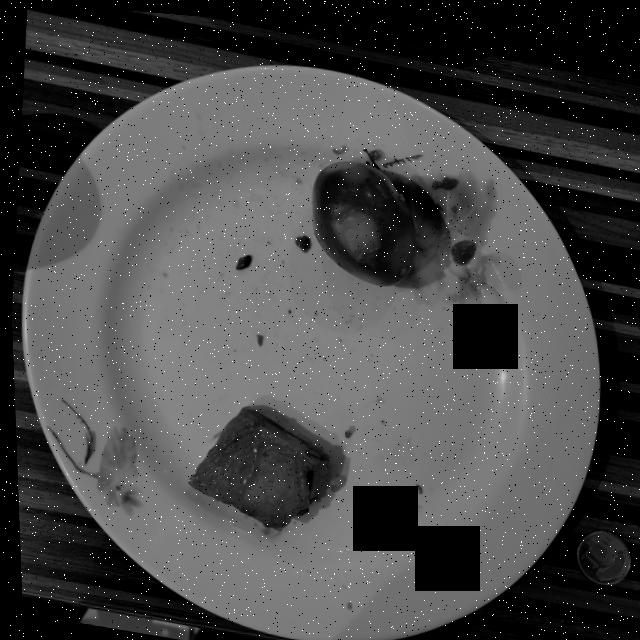coin: (572, 520, 626, 575)
creamy tofu: (185, 402, 325, 526)
soy egg: (310, 155, 414, 279)
